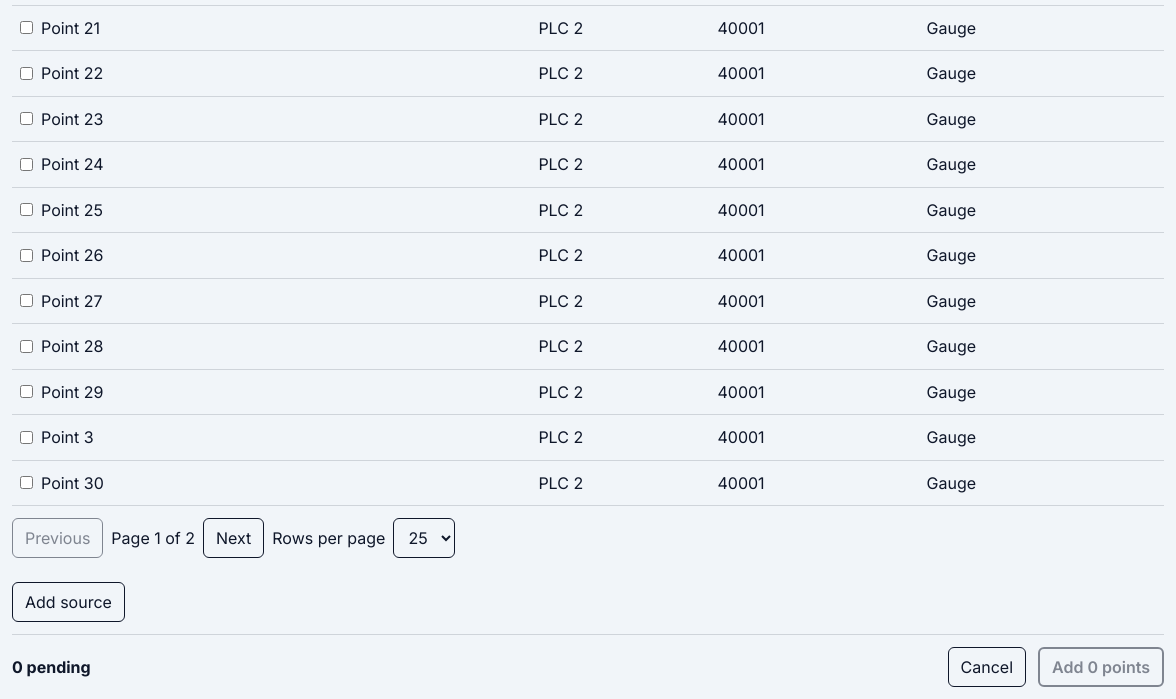
Test case: unmounted picker content › bounds rows and omits pagination for a short result
(page scrolled)
Click the button "Next" at (234, 538), box [203,518,264,558]
(page scrolled)
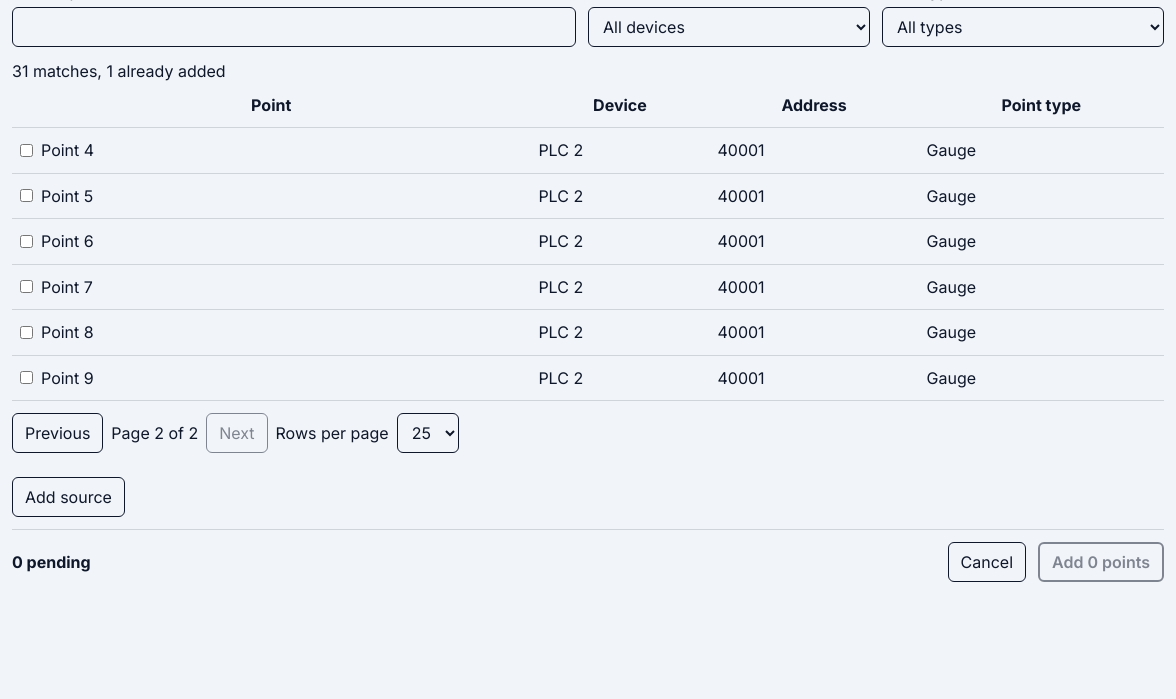
Result: the number of checkboxes is 6 at [20,144,33,156]; [20,189,33,202]; [20,234,33,248]; [20,280,33,293]; [20,326,33,338]; [20,371,33,384]
Select "PLC 1" in the dropdown labelled "Device" at (729, 27), box [588,7,870,47]
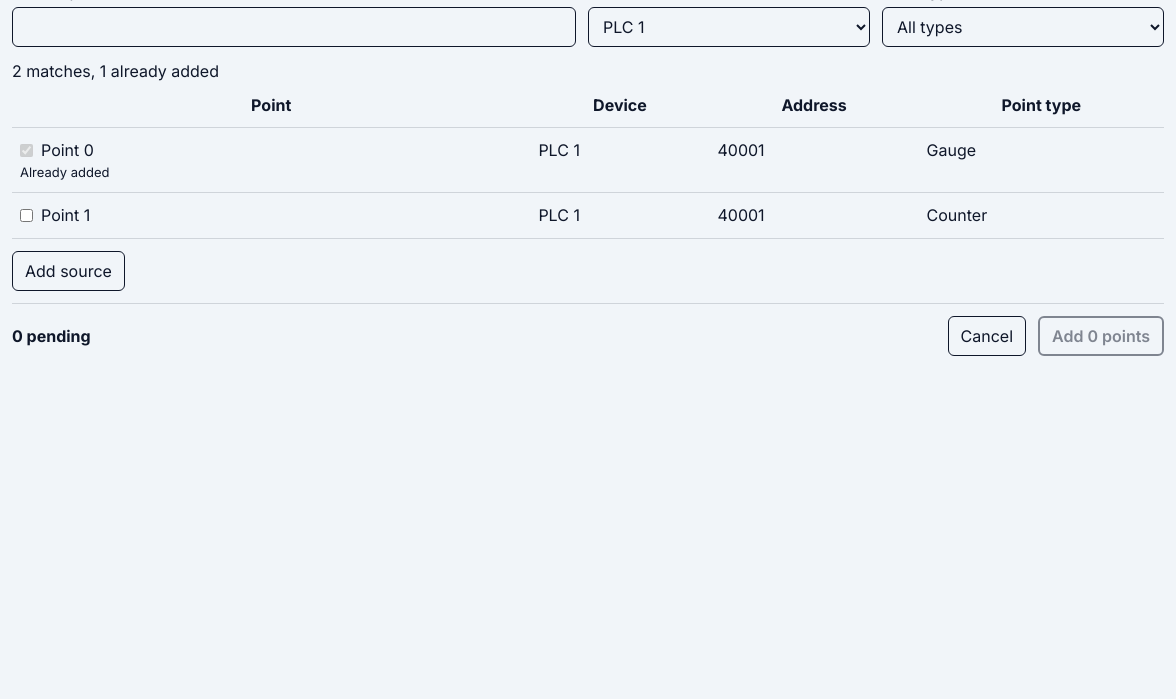
Result: the number of checkboxes is 2 at [20,144,33,156]; [20,208,33,222]
Result: the button "Next" is gone
